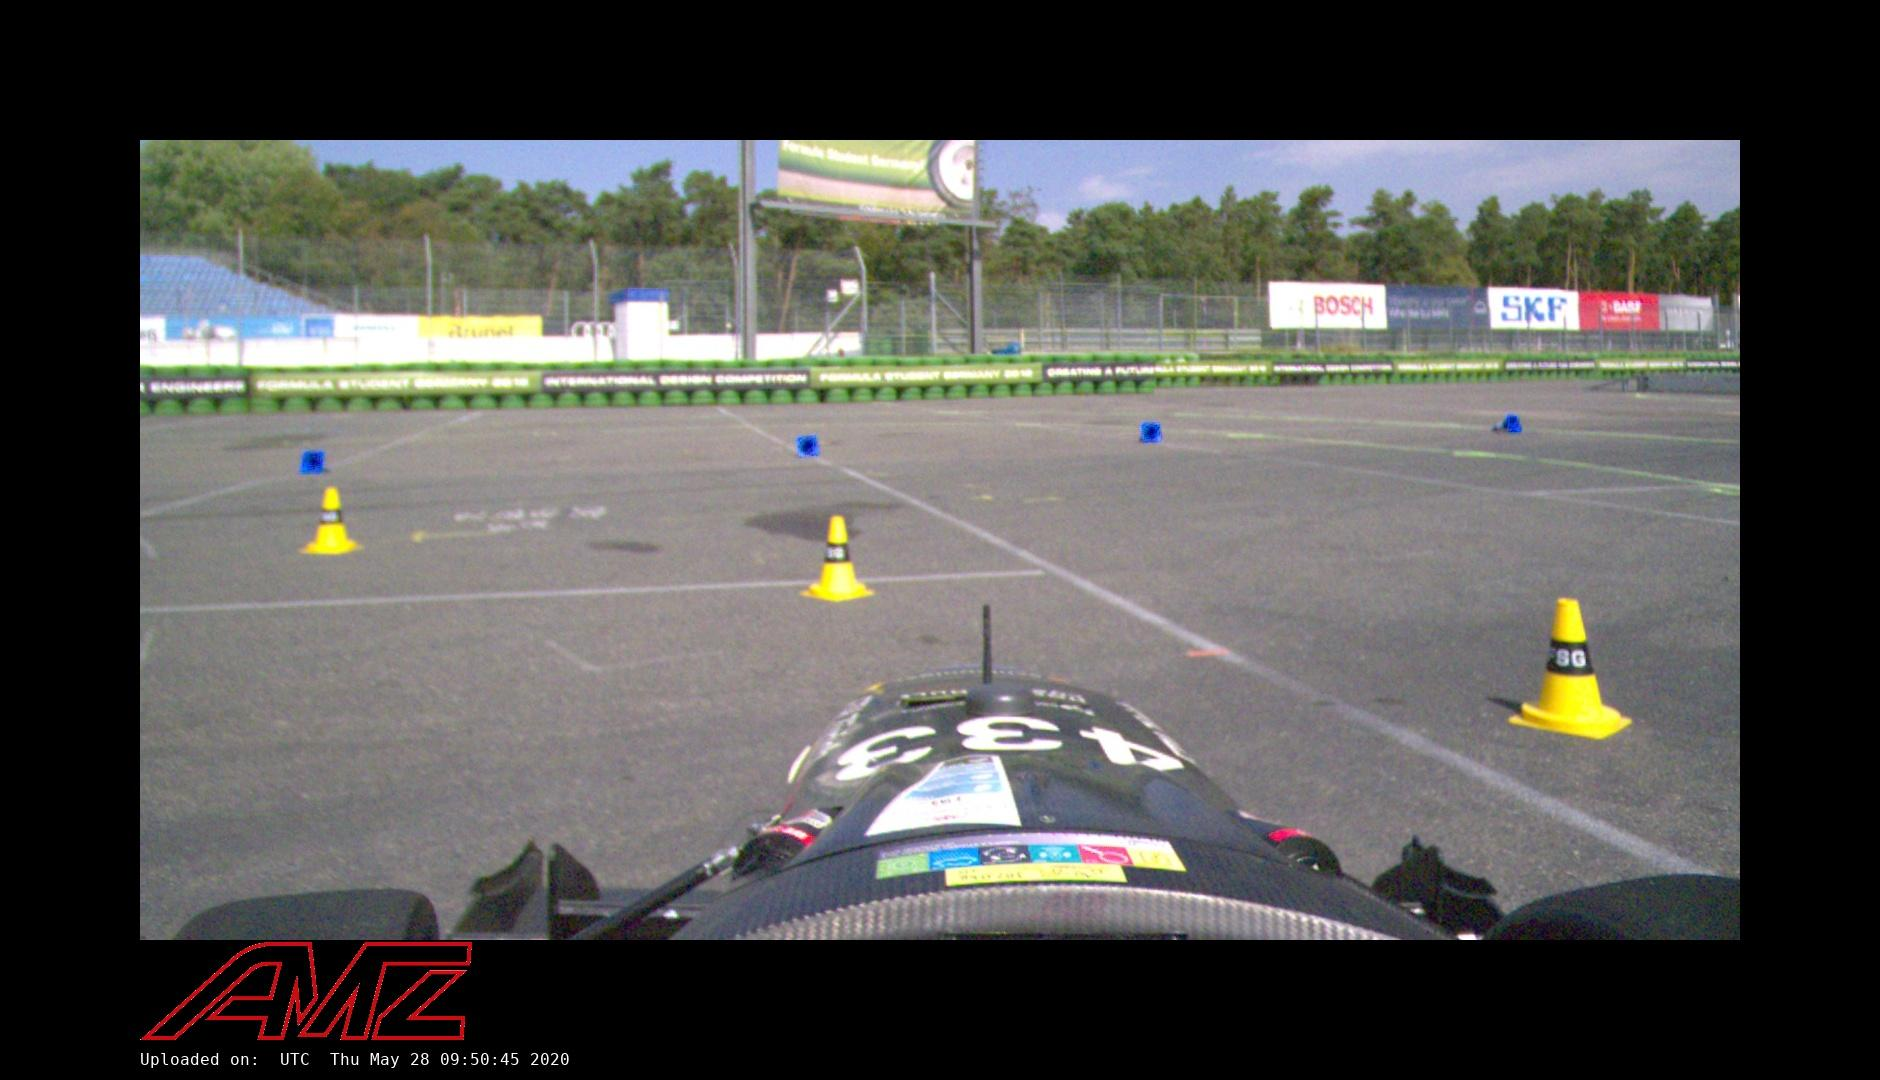yellow_cone: (1506, 594, 1635, 738), (804, 513, 874, 599), (303, 484, 359, 553)
